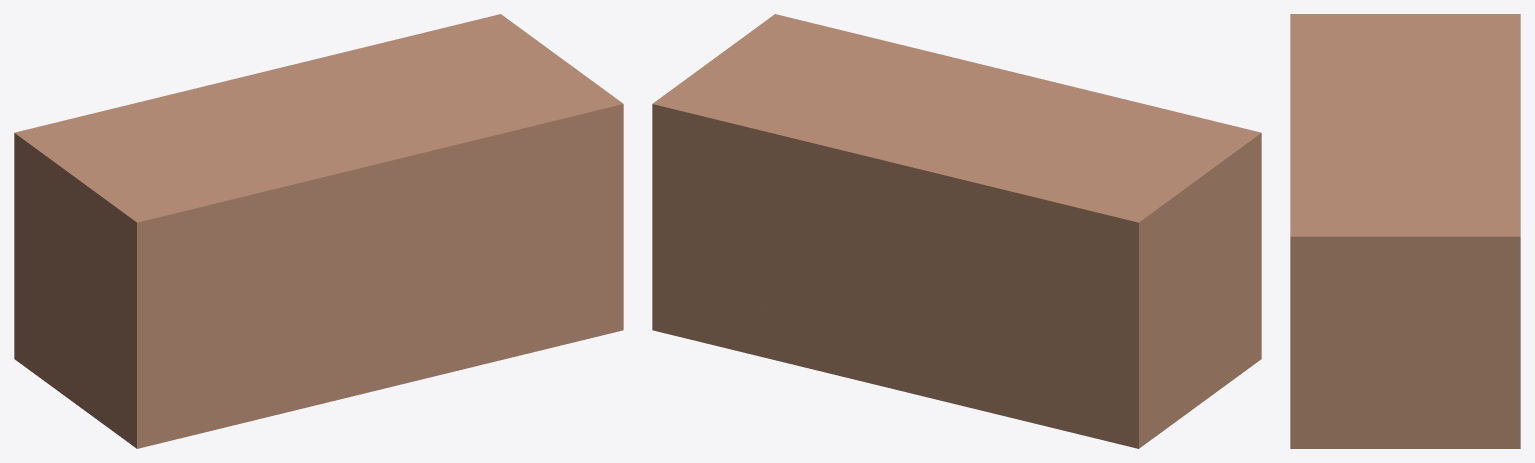
The model's file is pouch-3x2.glb.
3 views of the same model, side by side, from view 1: azimuth 30°, elevation 25°; view 2: azimuth 150°, elevation 25°; view 3: azimuth 270°, elevation 25° (orthographic). The views are drawn at different scales.
Parts seen in each view (by area): view 1: body; view 2: body; view 3: body.
Part boxes in pixels (x1=…): body: x1=14, y1=14, x2=623, y2=448; body: x1=652, y1=14, x2=1261, y2=448; body: x1=1290, y1=14, x2=1520, y2=448.
Bounding box in the file's own units: 0.1143 × 0.0508 × 0.05.
